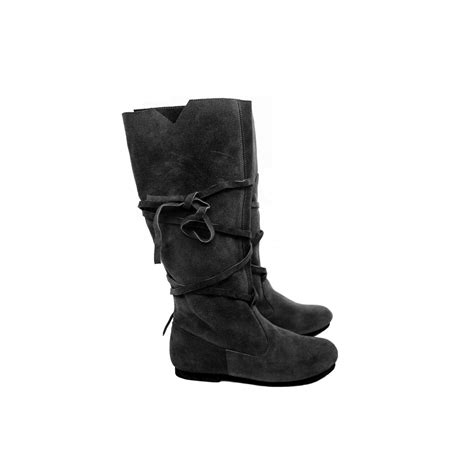gamuza: (123, 99, 339, 383)
